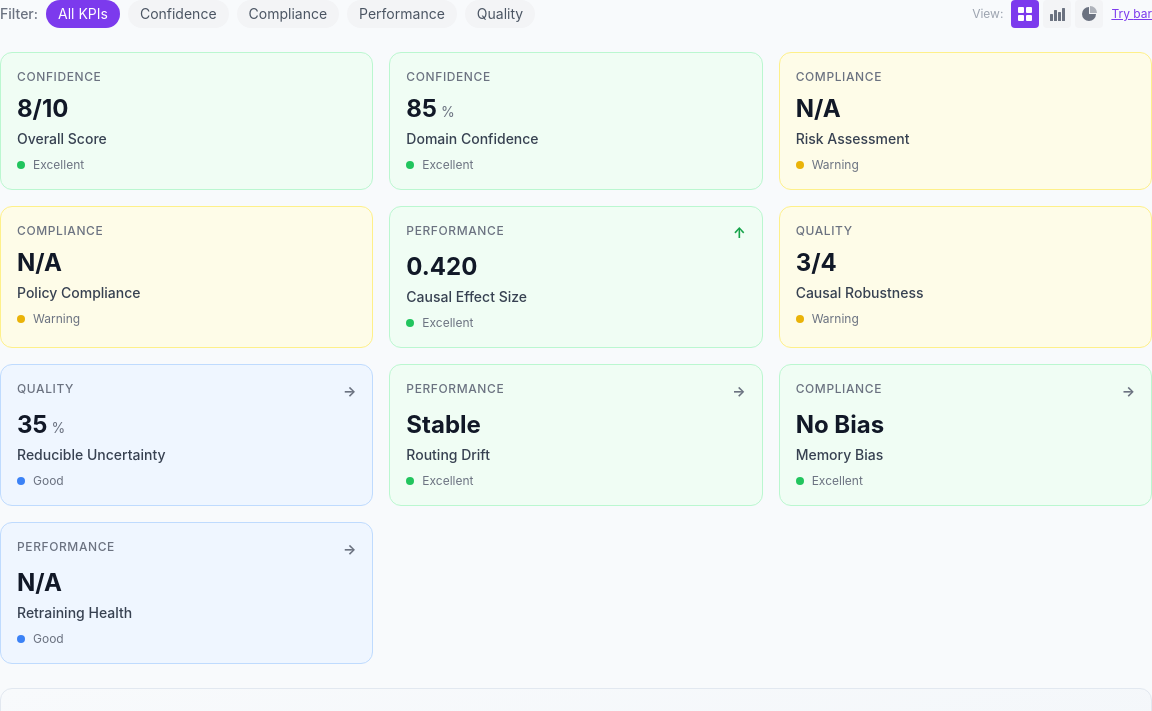
Test: ExecutiveKPIPanel › Chart type switching (Phase 6A) › switches to bar chart view when bar icon is clicked
Click bar chart button
Step 1. Click the button with test id "chart-type-bar" → (1057, 14), box [1043, 0, 1071, 28]
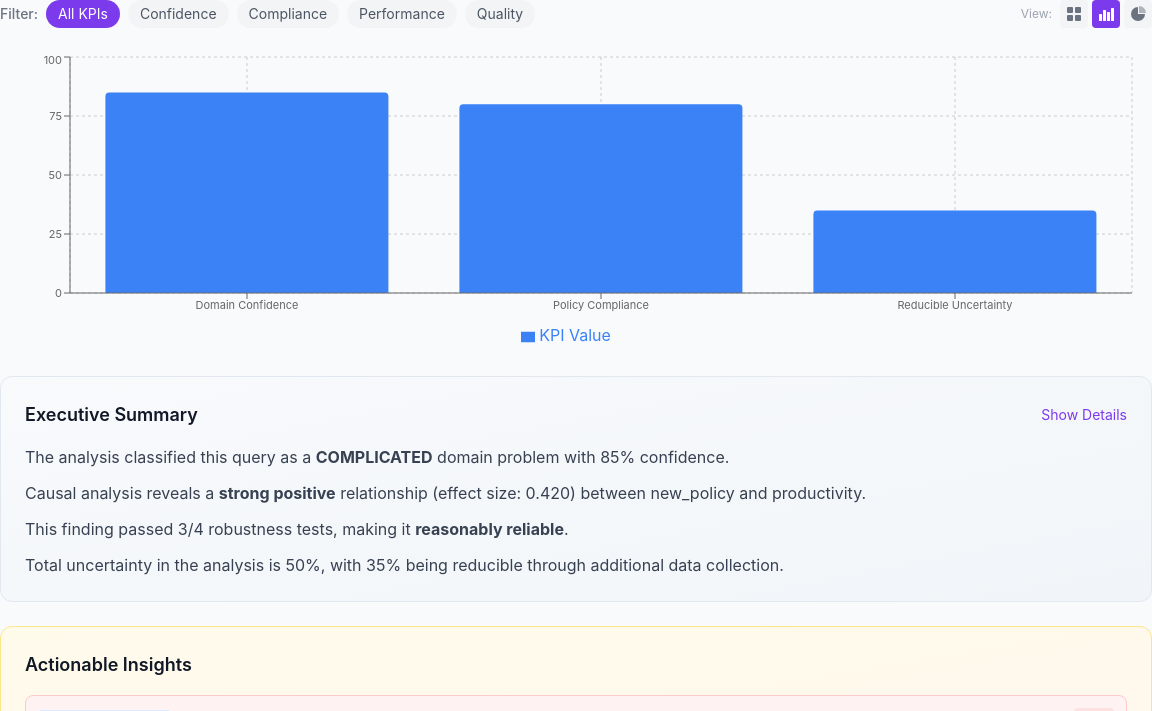
Expected: the element with test id "bar-chart-view" is shown, [0, 52, 1151, 352]
